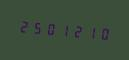five: (30, 17, 42, 38)
one: (56, 19, 68, 40), (82, 21, 94, 42)
two: (17, 15, 29, 36), (69, 20, 81, 41)
zero: (43, 18, 55, 39), (95, 22, 107, 43)
